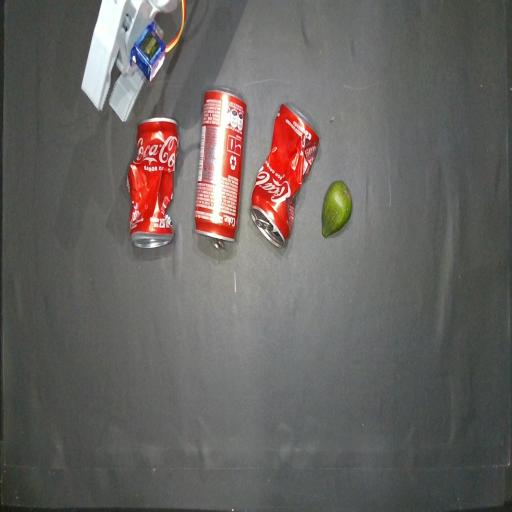higo: (322, 181, 352, 237)
lata: (195, 89, 247, 248)
lata_defectuoso: (250, 104, 319, 245), (127, 118, 179, 248)
